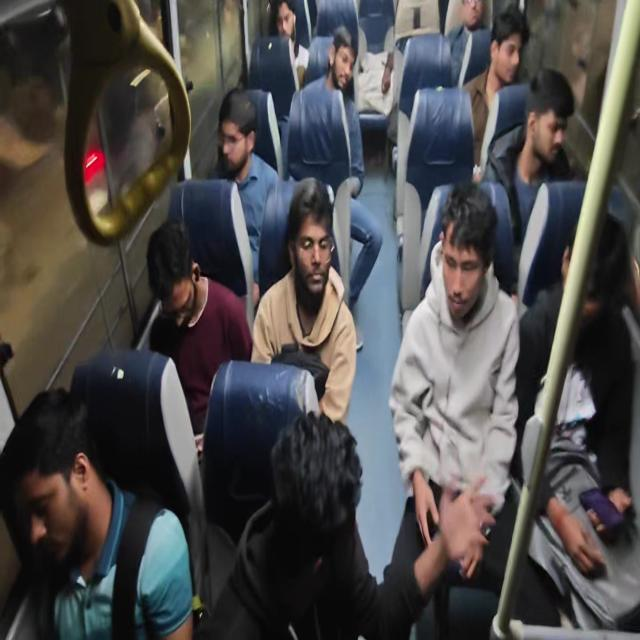person: (195, 410, 498, 638), (388, 181, 520, 631), (516, 210, 638, 629), (1, 386, 194, 638), (420, 5, 530, 298), (286, 25, 383, 309), (250, 176, 357, 424), (146, 217, 252, 453), (481, 67, 576, 241), (206, 88, 280, 290), (461, 6, 530, 176), (446, 0, 492, 88), (267, 0, 310, 92)
